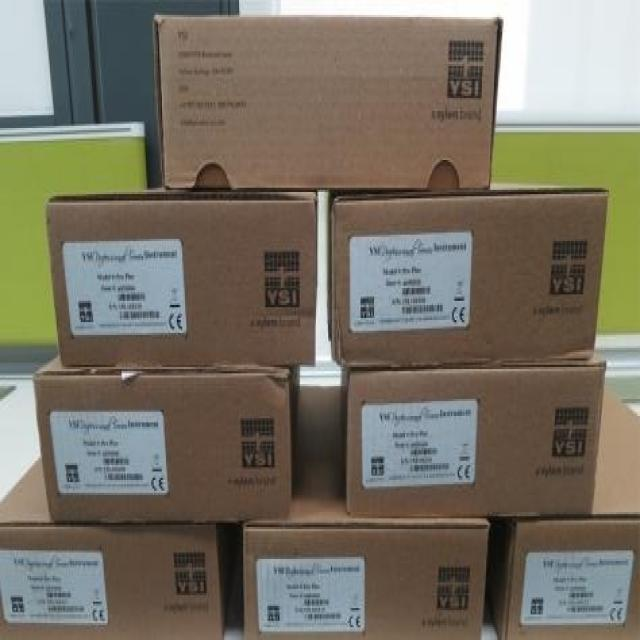box: (243, 386, 490, 640), (154, 15, 502, 188), (328, 181, 610, 371), (45, 188, 317, 367), (34, 354, 300, 523), (347, 352, 608, 516), (0, 454, 223, 640), (487, 384, 640, 640)
